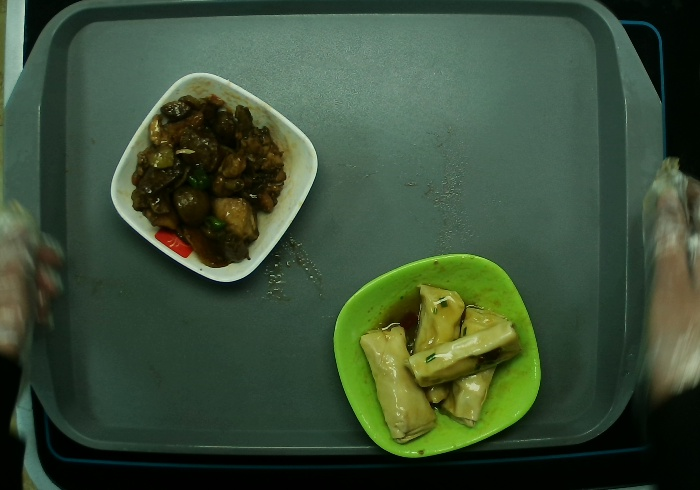SHKJ-Bai_Se_Xiao_Fang_Die: (110, 72, 317, 282)
SHKJ-Lv_Se_Cai_Die: (334, 254, 541, 457)
